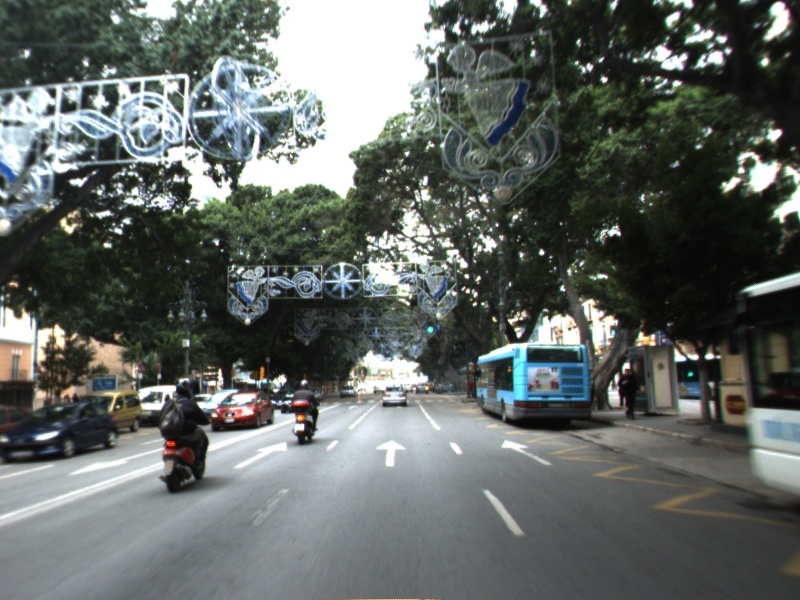STRAIGHT: (231, 440, 289, 471), (499, 437, 555, 468), (374, 437, 408, 468)
